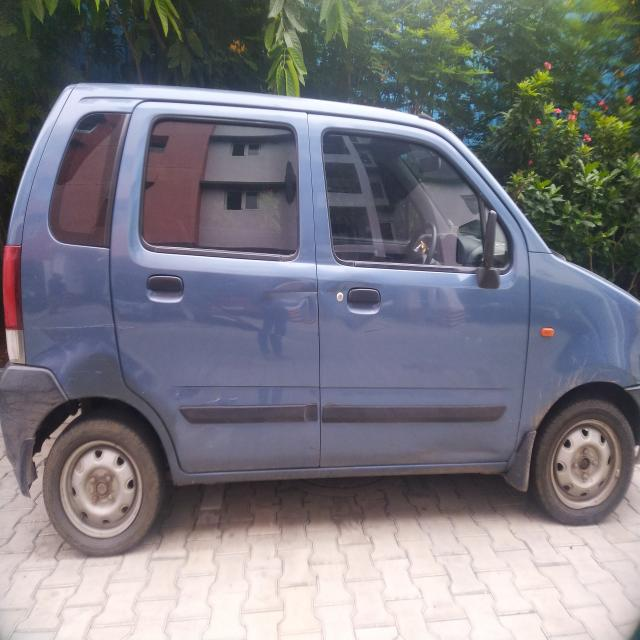scratch: (212, 304, 316, 350), (29, 321, 138, 335), (263, 288, 318, 299), (200, 396, 240, 405), (95, 255, 106, 264), (326, 289, 348, 293), (174, 391, 182, 396), (453, 330, 461, 334), (140, 390, 146, 394)
